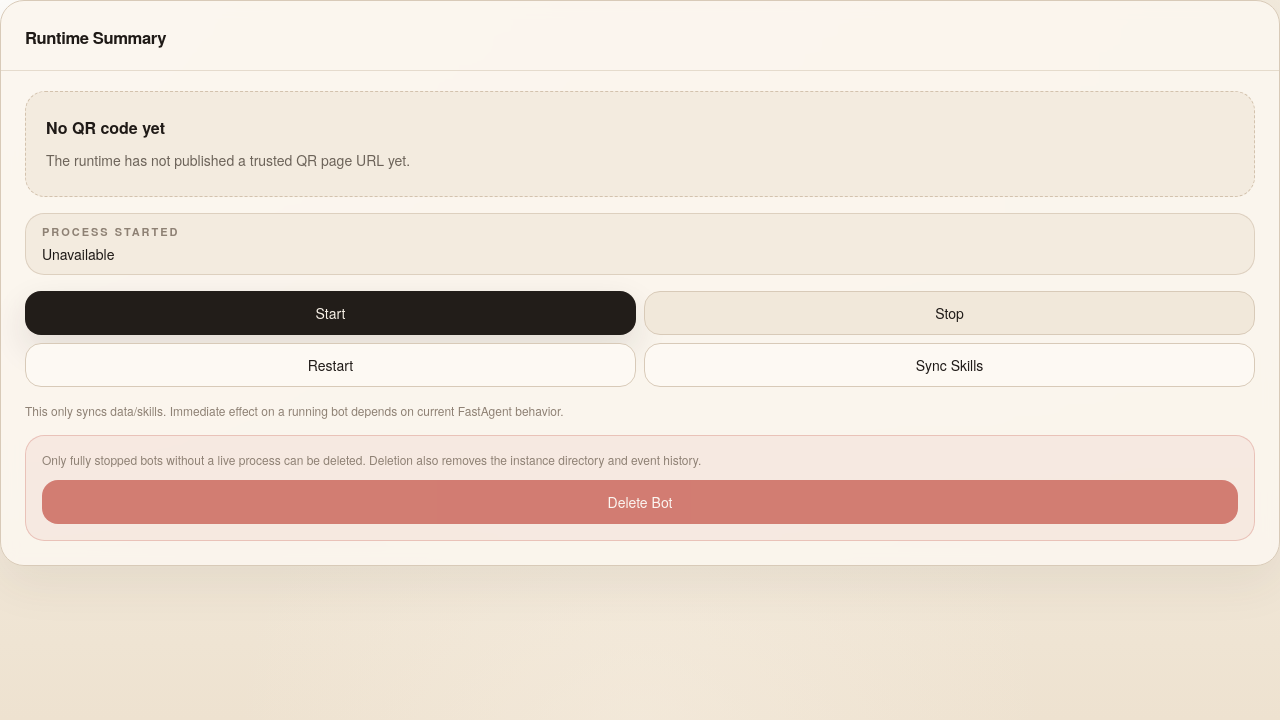
Test: shows sync feedback without mutating the live bot payload
Click the button "Sync Skills" at [950, 366], box x1=644 y1=344 x2=1255 y2=388
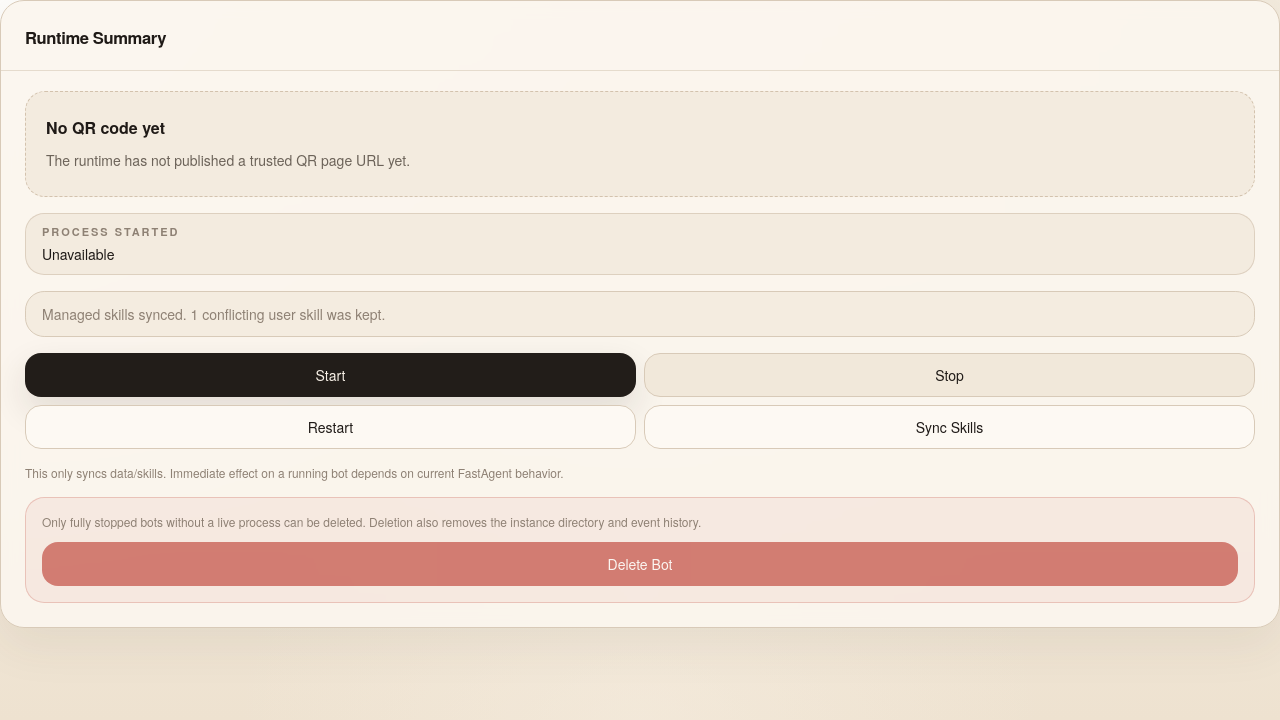
Check: the text "Managed skills synced. 1 conflicting user skill was kept." is shown, box x1=25 y1=292 x2=1255 y2=338
